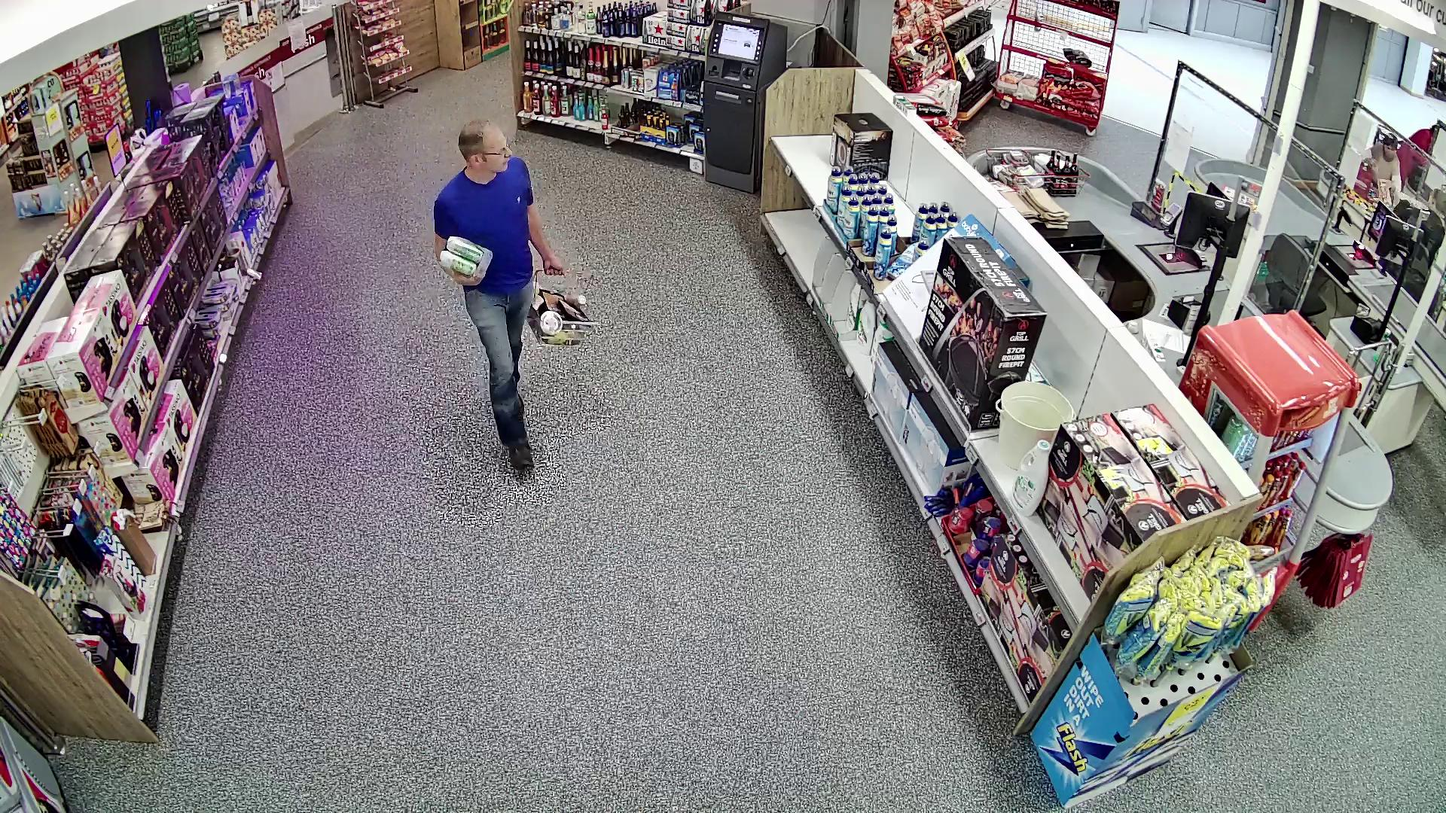carrying-item: (438, 234, 493, 284)
filled-basket: (527, 267, 603, 349)
person: (435, 119, 565, 473)
person-with-basket-trolly-and-carrying-item: (434, 118, 604, 473)
vacant-checkout-counter: (1027, 187, 1256, 343), (1261, 211, 1419, 324)
